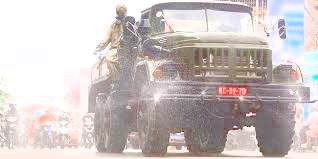plate: (216, 85, 251, 97)
